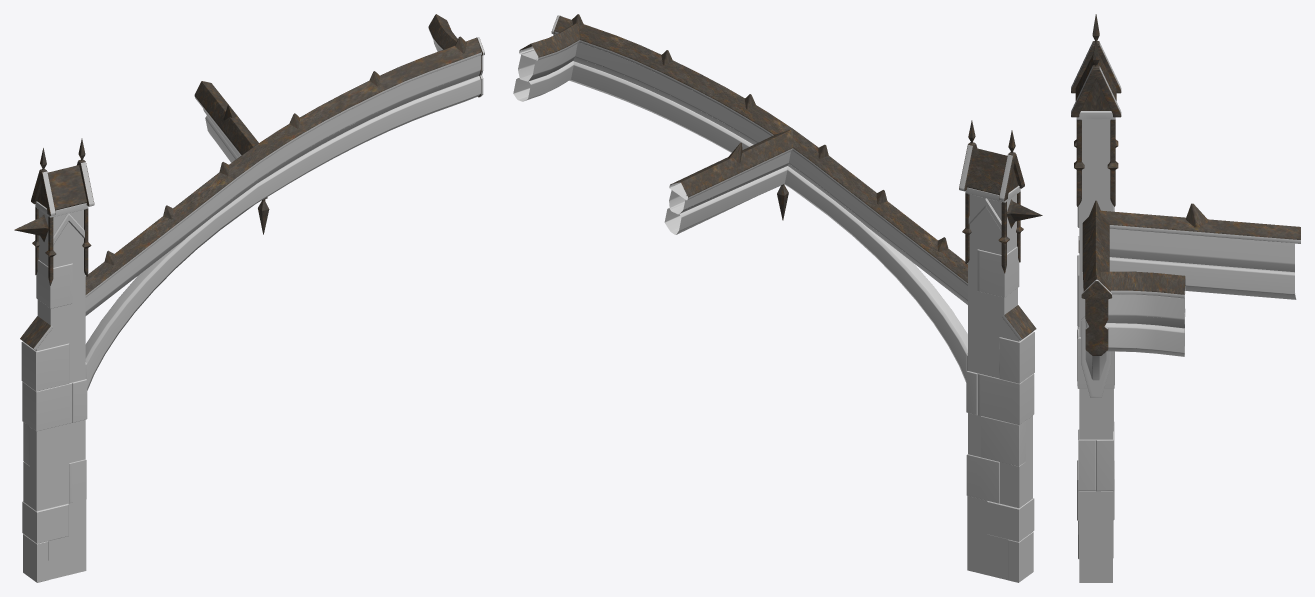
3 views of the same model, side by side, from view 1: azimuth 30°, elevation 25°; view 2: azimuth 150°, elevation 25°; view 3: azimuth 270°, elevation 25° (orthographic). The views are drawn at different scales.
Parts seen in each view (by area): view 1: SM_Dowdun_Support_Arch_01_LOD0; view 2: SM_Dowdun_Support_Arch_01_LOD0; view 3: SM_Dowdun_Support_Arch_01_LOD0.
Part boxes in pixels (x1,y1,x2,y2): SM_Dowdun_Support_Arch_01_LOD0: [14, 14, 484, 582]; SM_Dowdun_Support_Arch_01_LOD0: [513, 14, 1042, 582]; SM_Dowdun_Support_Arch_01_LOD0: [1071, 14, 1300, 582].
Bounding box in the file's own units: 16.62 × 14.63 × 5.46.
